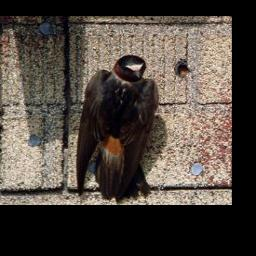Swallow: (74, 54, 158, 204)
